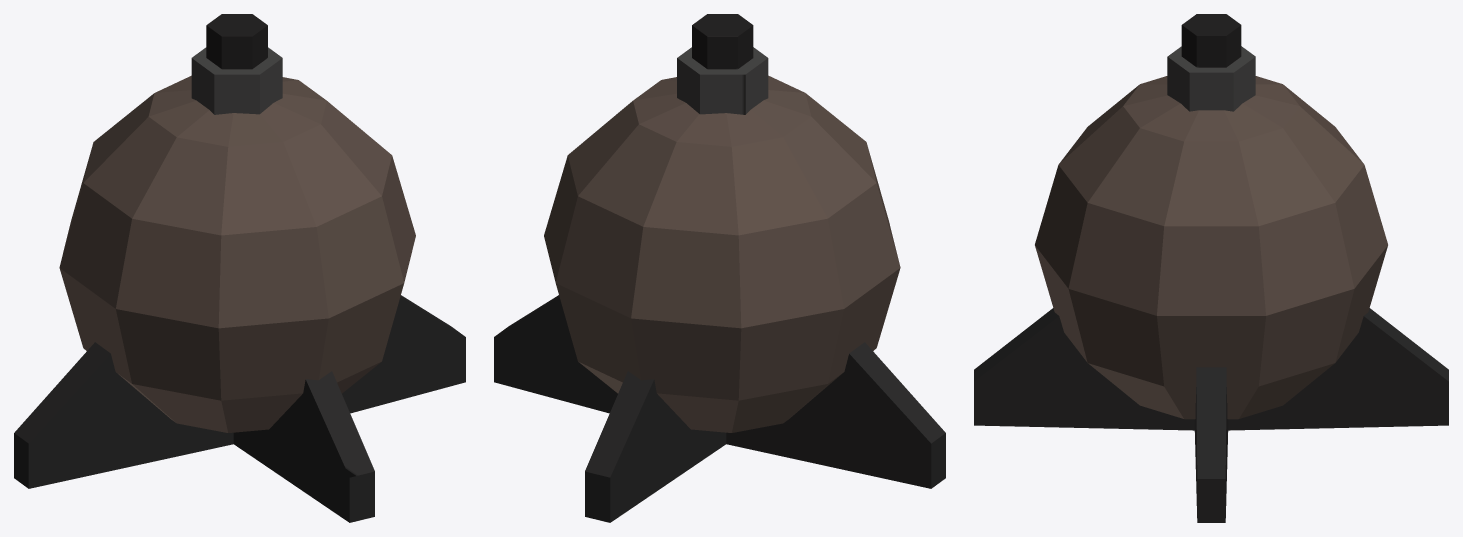
File: sphericalTank.obj
3 views of the same model, side by side, from view 1: azimuth 30°, elevation 25°; view 2: azimuth 150°, elevation 25°; view 3: azimuth 270°, elevation 25° (orthographic). The views are drawn at different scales.
Visible parts, largest first — view 1: Sphere, Cube.006, Cylinder.004; view 2: Sphere, Cube.006, Cylinder.004; view 3: Sphere, Cube.006, Cylinder.004.
Boxes of the visible parts, <box> form: Sphere: <box>59,75,415,432</box>; Cube.006: <box>14,295,465,522</box>; Cylinder.004: <box>191,14,282,114</box>; Sphere: <box>544,75,900,432</box>; Cube.006: <box>494,295,945,522</box>; Cylinder.004: <box>677,14,768,114</box>; Sphere: <box>1035,76,1387,419</box>; Cube.006: <box>974,308,1448,522</box>; Cylinder.004: <box>1167,14,1255,111</box>.
Size of the model in its own units: 2.77 by 2.48 by 2.69.
3 materials, 3 textured.
